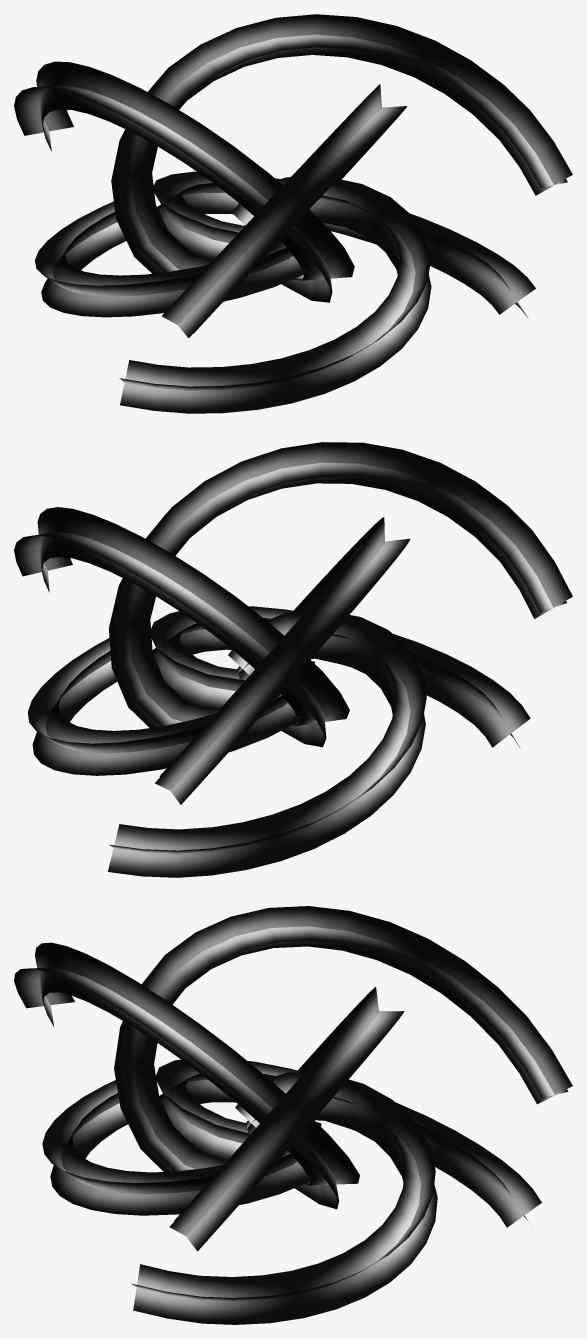
Rendered from vfx_kurp_0177.dae.
The picture shows the model from 3 angles, top to bottom: view 1: azimuth 30°, elevation 25°; view 2: azimuth 150°, elevation 25°; view 3: azimuth 270°, elevation 25°; orthographic projection. The views are drawn at different scales.
Parts seen in each view (by area): view 1: vfx_kurp_0177; view 2: vfx_kurp_0177; view 3: vfx_kurp_0177.
Part boxes in pixels (left/top/right/bottom): vfx_kurp_0177: left=14, top=14, right=572, bottom=413; vfx_kurp_0177: left=14, top=442, right=572, bottom=877; vfx_kurp_0177: left=14, top=906, right=572, bottom=1324.
Bounding box in the file's own units: 10.92 × 11.25 × 5.99.
Materials: 1 (1 with a texture image).
